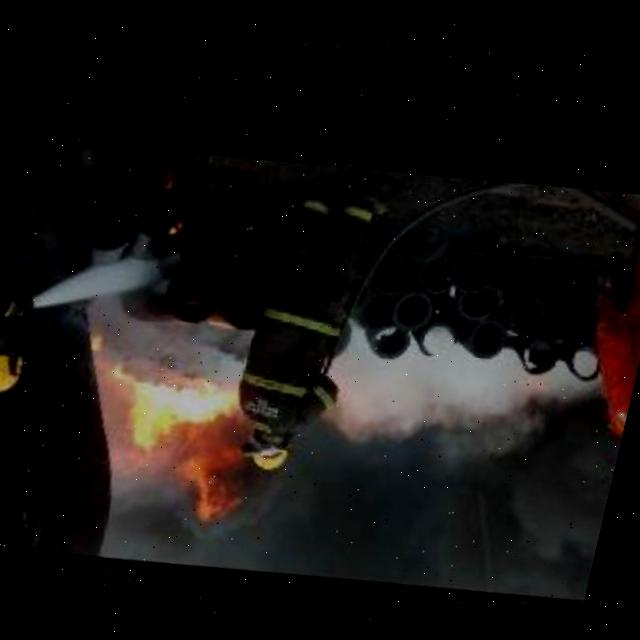fire: (76, 339, 275, 537)
